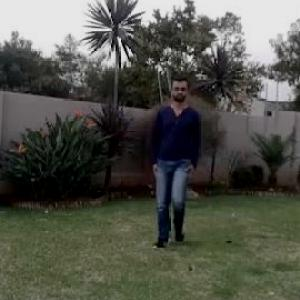follow: (151, 82, 197, 236)
